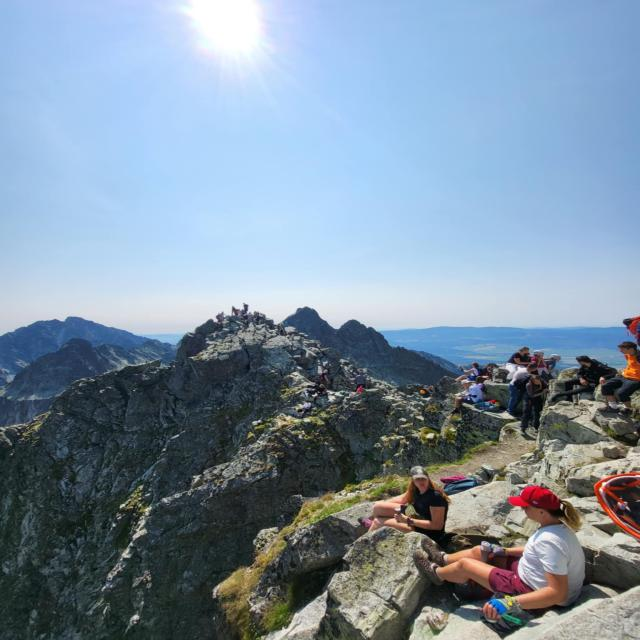Ganek: (16, 313, 140, 370)
Gerlachovsky Stit: (4, 285, 135, 351)
Vysoka: (250, 270, 394, 369)
